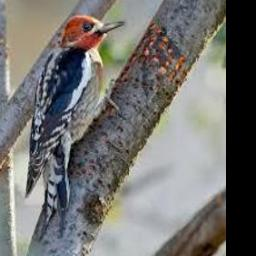Woodpecker: (25, 15, 126, 240)
